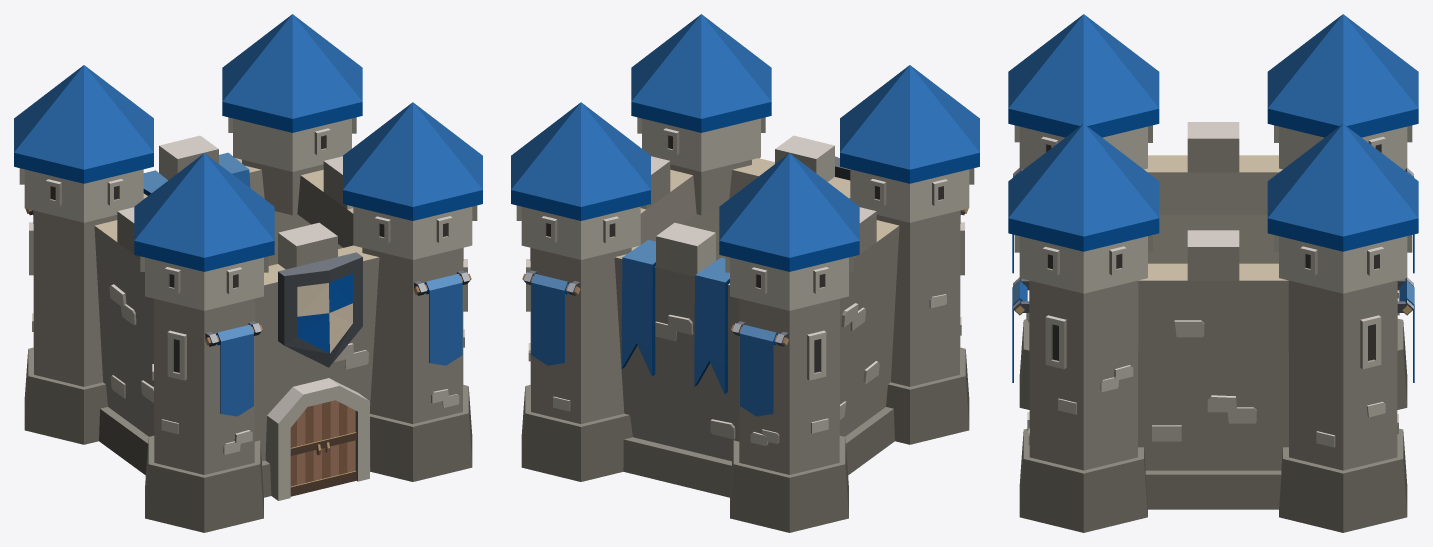
The model's file is TB_Barracks_Lvl4B.FBX.
The picture shows the model from 3 angles, left to right: view 1: azimuth 30°, elevation 25°; view 2: azimuth 150°, elevation 25°; view 3: azimuth 270°, elevation 25°; orthographic projection. The views are drawn at different scales.
Parts seen in each view (by area): view 1: TB_Barracks_Lvl4B, TB_Barracks_Lvl4B_DoorB, TB_Barracks_Lvl4B_DoorA; view 2: TB_Barracks_Lvl4B; view 3: TB_Barracks_Lvl4B.
Part boxes in pixels (x1,y1,x2,y2): TB_Barracks_Lvl4B: (14,14,482,532); TB_Barracks_Lvl4B_DoorB: (322,400,356,488); TB_Barracks_Lvl4B_DoorA: (290,403,322,496); TB_Barracks_Lvl4B: (511,14,979,532); TB_Barracks_Lvl4B: (1008,14,1418,532).
Bounding box in the file's own units: 9.36 × 9.01 × 8.86.
